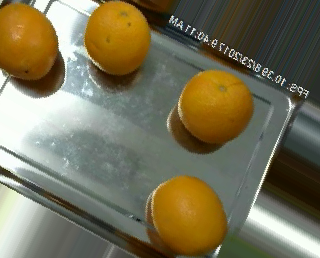Orange: (150, 175, 230, 257), (176, 68, 254, 145), (83, 1, 151, 76), (0, 2, 59, 81)
